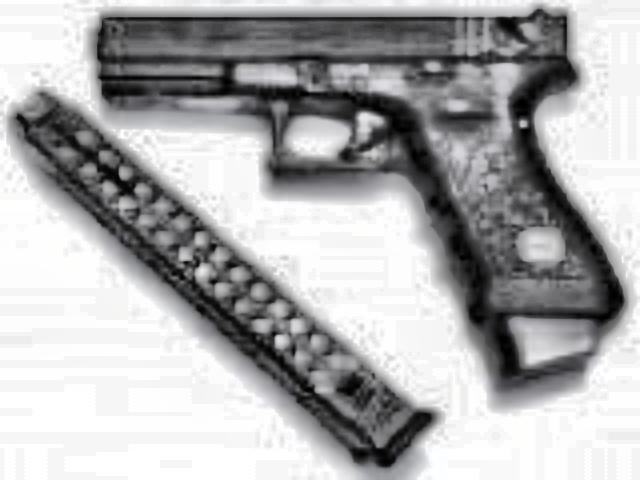pistol: (88, 0, 616, 376)
